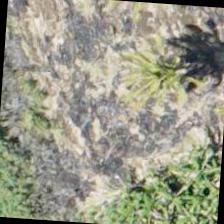Kelapa_Sawit: (112, 32, 208, 128)
